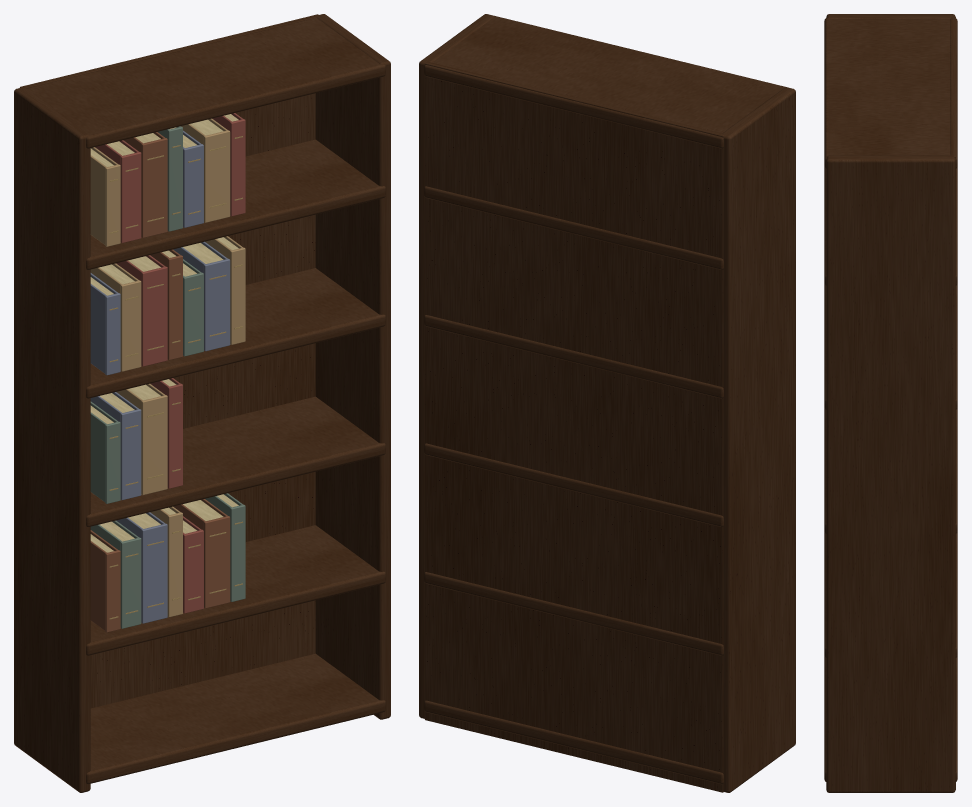
Rendered from bookshelf.glb.
3 views of the same model, side by side, from view 1: azimuth 30°, elevation 25°; view 2: azimuth 150°, elevation 25°; view 3: azimuth 270°, elevation 25° (orthographic). The views are drawn at different scales.
Parts seen in each view (by area): view 1: Shelf side, Shelf side.001, Inset rear plywood, Fixed shelf.005, Fixed shelf, Fixed shelf.002, Fixed shelf.001, Fixed shelf.003, Fixed shelf.004, Second-hand book / spine.013, Second-hand book / spine.009, Second-hand book / spine.002 (+26 smaller); view 2: Inset rear plywood, Shelf side, Fixed shelf.005, Shelf side.001, Fixed shelf.001, Fixed shelf.004, Fixed shelf, Fixed shelf.002, Fixed shelf.003; view 3: Shelf side.001, Fixed shelf.005, Inset rear plywood, Shelf side, Fixed shelf, Fixed shelf.001, Fixed shelf.002, Fixed shelf.003, Fixed shelf.004.
Boxes of the visible parts, x1,y1,x2,y2 form: Shelf side: (14,88,90,792); Shelf side.001: (315,14,390,719); Inset rear plywood: (20,14,319,708); Fixed shelf.005: (27,18,385,148); Fixed shelf: (86,653,385,784); Fixed shelf.002: (86,396,385,526); Fixed shelf.001: (86,525,385,655); Fixed shelf.003: (86,268,385,398); Fixed shelf.004: (86,139,385,269); Second-hand book / spine.013: (141,266,167,366); Second-hand book / spine.009: (141,395,167,495); Second-hand book / spine.002: (141,523,167,623); Inset rear plywood: (424,62,724,792); Shelf side: (722,87,795,792); Fixed shelf.005: (424,15,786,148); Shelf side.001: (419,14,494,718); Fixed shelf.001: (424,572,723,655); Fixed shelf.004: (424,186,723,269); Fixed shelf: (424,700,723,784); Fixed shelf.002: (424,443,723,526); Fixed shelf.003: (424,315,723,398); Shelf side.001: (826,155,955,792); Fixed shelf.005: (824,18,957,168); Inset rear plywood: (950,16,955,789); Shelf side: (826,14,954,18); Fixed shelf: (824,655,957,781); Fixed shelf.001: (824,531,957,657); Fixed shelf.002: (824,407,957,533); Fixed shelf.003: (824,283,957,409); Fixed shelf.004: (824,166,957,285).
Size of the model in its own units: 0.915 by 1.84 by 0.35.
Materials: 8 (2 with a texture image).
